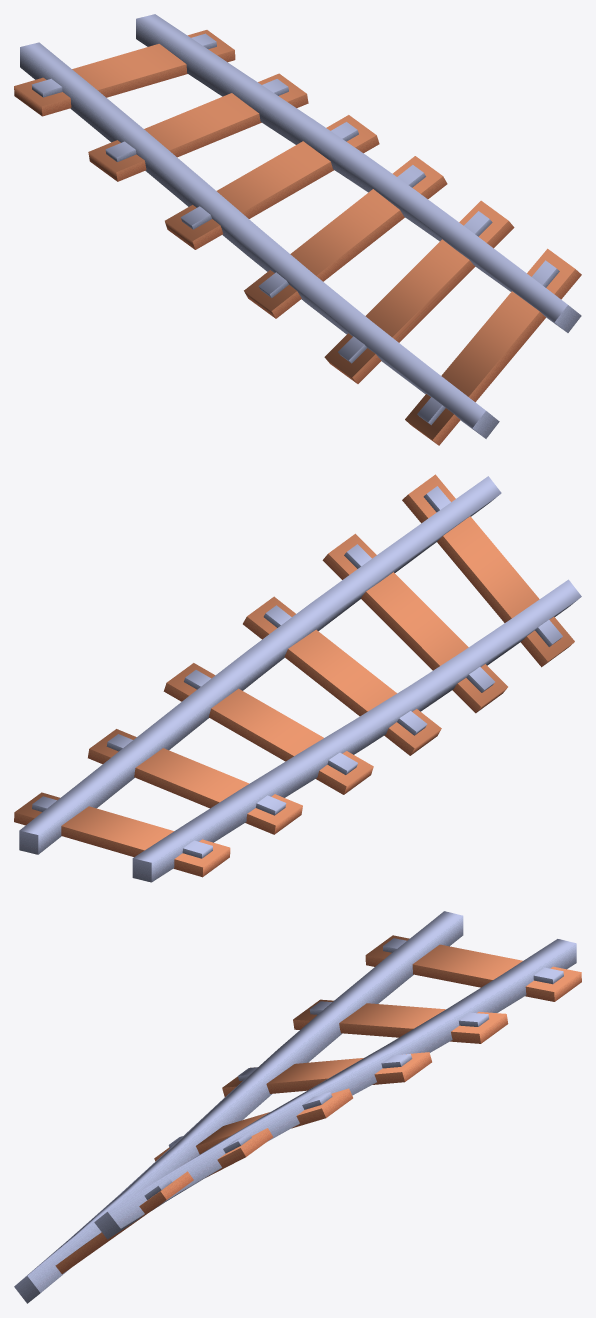
File: railroad-straight-skew-right.glb
3 views of the same model, one above another, from view 1: azimuth 30°, elevation 25°; view 2: azimuth 150°, elevation 25°; view 3: azimuth 330°, elevation 25° (orthographic). The views are drawn at different scales.
Visible parts, largest first — view 1: railroad-straight-skew-right; view 2: railroad-straight-skew-right; view 3: railroad-straight-skew-right.
Part boxes in pixels (bbox=[...]): railroad-straight-skew-right: bbox=[14, 14, 581, 445]; railroad-straight-skew-right: bbox=[14, 474, 581, 882]; railroad-straight-skew-right: bbox=[14, 911, 581, 1303].
Size of the model in its own units: 1 by 0.7105 by 4.
1 material, 1 textured.
